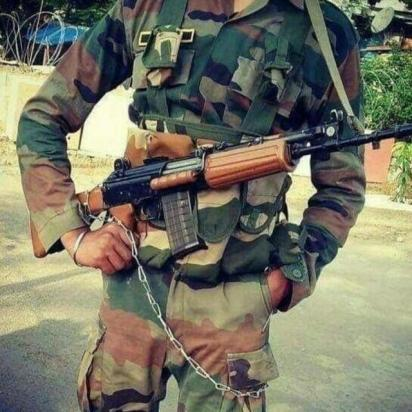Gun: (47, 106, 412, 262)
